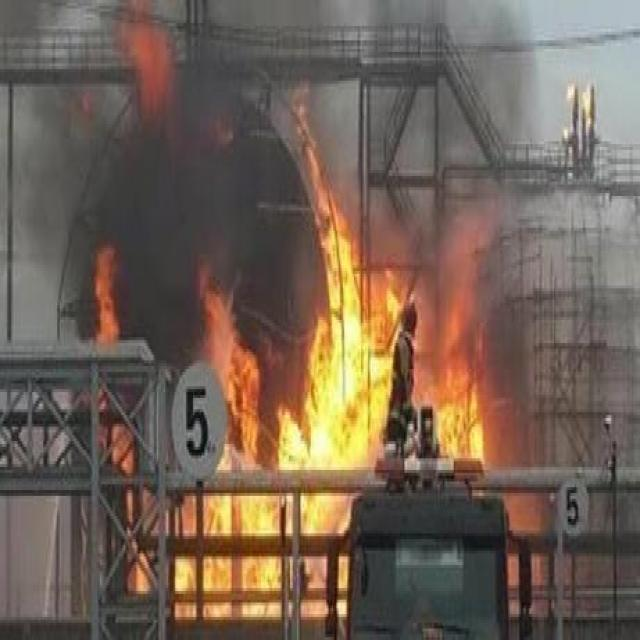fire: (48, 6, 537, 630)
